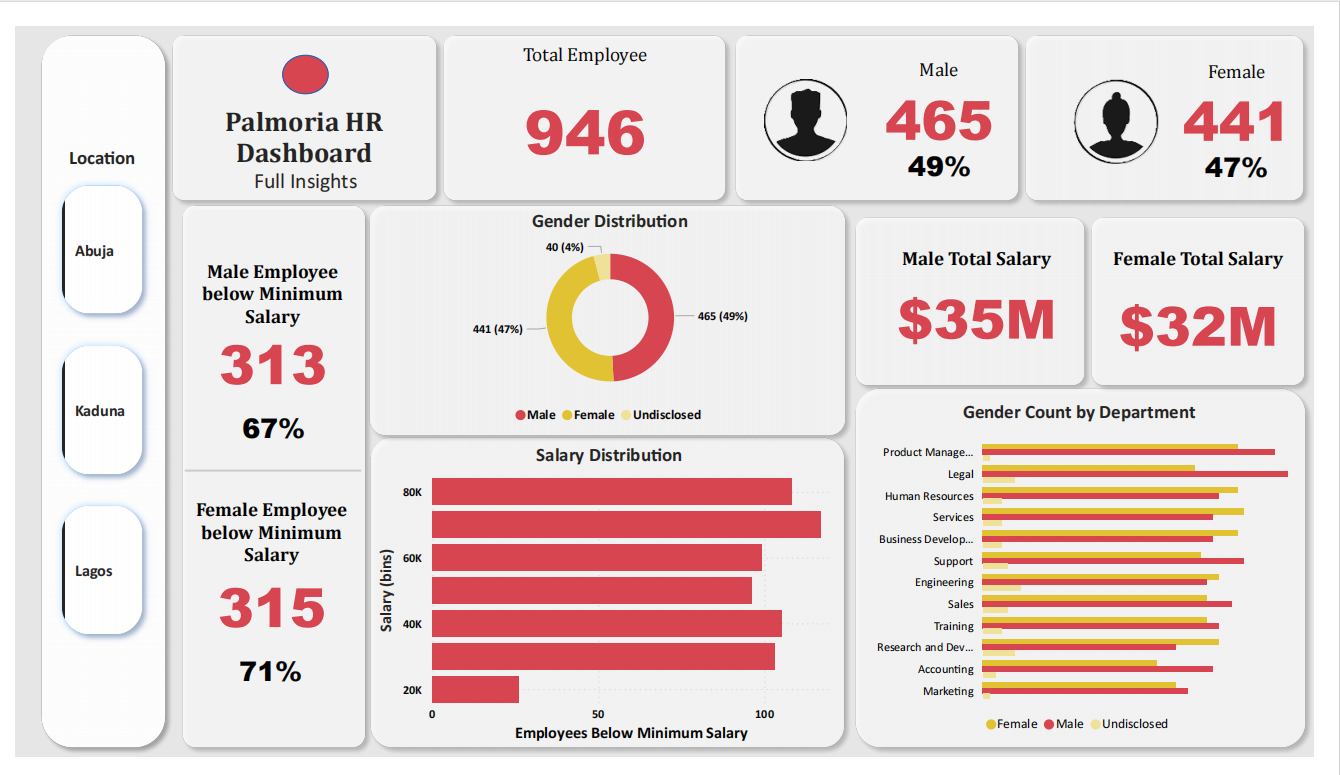

This screenshot's page, from the dashboard's own definition file:
{"tool":"powerbi","page":{"name":"Dashboard","canvas":[1280,720],"ordinal":0},"visuals":[{"type":"shape","box":[17,0,139,719],"z":0},{"type":"shape","box":[146.5,0,277.2,180.4],"z":1000},{"type":"shape","box":[414,0,295.4,180.4],"z":2000},{"type":"shape","box":[702.1,0,295.4,180.4],"z":3000},{"type":"shape","box":[986.6,0,291.7,180.4],"z":4000},{"type":"shape","box":[156,168,197,551],"z":5000},{"type":"shape","box":[341.9,397.2,484.4,322.5],"z":6000},{"type":"shape","box":[341.4,168.3,485.4,243.3],"z":7000},{"type":"shape","box":[819.5,180.4,243.3,181.6],"z":8000},{"type":"shape","box":[819.5,348.6,461.2,371.6],"z":9000},{"type":"shape","box":[1053.1,180.4,226.4,181.6],"z":10000},{"type":"textbox","box":[156.2,72.6,257.8,75.1],"z":11000},{"type":"textbox","box":[198.5,134.4,175.5,46],"z":12000},{"type":"shape","box":[262.7,27.8,46,38.7],"z":13000},{"type":"card","title":"Total Employee","fields":{"Values":["Palmoria Group emp-data.Total Emp"]},"box":[435.8,15.7,251.8,141.6],"z":14000},{"type":"card","title":"Male","fields":{"Values":["Palmoria Group emp-data.Total Male"]},"box":[849.8,31.5,122.3,88.4],"z":15000},{"type":"card","title":"Female","fields":{"Values":["Palmoria Group emp-data.Total Female"]},"box":[1143.9,32.7,121,87.2],"z":16000},{"type":"card","title":"Female","fields":{"Values":["Palmoria Group emp-data.% Female"]},"box":[1164.5,111.4,79.9,56.9],"z":17000},{"type":"card","title":"Female","fields":{"Values":["Palmoria Group emp-data.% Male"]},"box":[871.6,110.2,79.9,56.9],"z":18000},{"type":"image","box":[1036.2,47.2,98.1,93.2],"z":19000},{"type":"image","box":[731.1,47.2,94.4,89.6],"z":20000},{"type":"shape","box":[167,432,174,12],"z":21000},{"type":"card","title":"Male Total Salary","fields":{"Values":["Palmoria Group emp-data.Total Salary (Male)"]},"box":[833,217,230,109],"z":22000},{"type":"card","title":"Female Total Salary","fields":{"Values":["Palmoria Group emp-data.Total Salary(Female)"]},"box":[1077,217,179,123],"z":23000},{"type":"card","title":"Female Employee below Minimum Salary","fields":{"Values":["Palmoria Group emp-data.Employees Below Minimum Salary (Female)"]},"box":[167,465,172,139],"z":24000},{"type":"card","title":"Female","fields":{"Values":["Palmoria Group emp-data.% Below Minimum Salary (Female)"]},"box":[213,608,79,57],"z":25000},{"type":"card","title":"Male Employee below Minimum Salary","fields":{"Values":["Palmoria Group emp-data.Employees Below Minimum Salary (Male)"]},"box":[167,230,174.3,129.5],"z":26000},{"type":"card","title":"Female","fields":{"Values":["Palmoria Group emp-data.% Below Minimum Salary (Male)"]},"box":[216,369,78,55],"z":27000},{"type":"clusteredBarChart","title":"Gender Count by Department ","fields":{"Y":["Palmoria Group emp-data.Gender Count"],"Category":["Palmoria Group emp-data.Department"],"Series":["Palmoria Group emp-data.Gender_Status"]},"box":[832.8,368,432.1,338.9],"z":28000},{"type":"donutChart","title":"Gender Distribution","fields":{"Category":["Palmoria Group emp-data.Gender_Status"],"Y":["CountNonNull(Palmoria Group emp-data.Department)"]},"box":[353.5,180.4,466,221.5],"z":29000},{"type":"clusteredBarChart","title":"Salary Distribution","fields":{"Category":["Palmoria Group emp-data.Salary (bins)"],"Y":["Palmoria Group emp-data.Employees Below Minimum Salary"]},"box":[352.9,411.1,466.4,300.3],"z":30000},{"type":"advancedSlicerVisual","fields":{"Values":["Palmoria Group emp-data.Location"]},"box":[29.1,117.6,113.5,501],"z":31000}]}

Visuals, with their boxes in screenshot pixels (x1, y1, x2, y2), scaled from the page's 1280x720 canvas onto the 1340x775 screenshot:
shape: BBox(18, 0, 163, 774)
shape: BBox(153, 0, 444, 194)
shape: BBox(433, 0, 743, 194)
shape: BBox(735, 0, 1044, 194)
shape: BBox(1033, 0, 1338, 194)
shape: BBox(163, 181, 370, 774)
shape: BBox(358, 428, 865, 774)
shape: BBox(357, 181, 866, 443)
shape: BBox(858, 194, 1113, 390)
shape: BBox(858, 375, 1339, 774)
shape: BBox(1102, 194, 1339, 390)
textbox: BBox(164, 78, 433, 159)
textbox: BBox(208, 145, 392, 194)
shape: BBox(275, 30, 323, 72)
"Total Employee" card: BBox(456, 17, 720, 169)
"Male" card: BBox(890, 34, 1018, 129)
"Female" card: BBox(1198, 35, 1324, 129)
"Female" card: BBox(1219, 120, 1303, 181)
"Female" card: BBox(912, 119, 996, 180)
image: BBox(1085, 51, 1187, 151)
image: BBox(765, 51, 864, 147)
shape: BBox(175, 465, 357, 478)
"Male Total Salary" card: BBox(872, 234, 1113, 351)
"Female Total Salary" card: BBox(1127, 234, 1315, 366)
"Female Employee below Minimum Salary" card: BBox(175, 501, 355, 650)
"Female" card: BBox(223, 654, 306, 716)
"Male Employee below Minimum Salary" card: BBox(175, 248, 357, 387)
"Female" card: BBox(226, 397, 308, 456)
"Gender Count by Department " clusteredBarChart: BBox(872, 396, 1324, 761)
"Gender Distribution" donutChart: BBox(370, 194, 858, 433)
"Salary Distribution" clusteredBarChart: BBox(369, 443, 858, 766)
advancedSlicerVisual - Palmoria Group emp-data.Location: BBox(30, 127, 149, 666)
